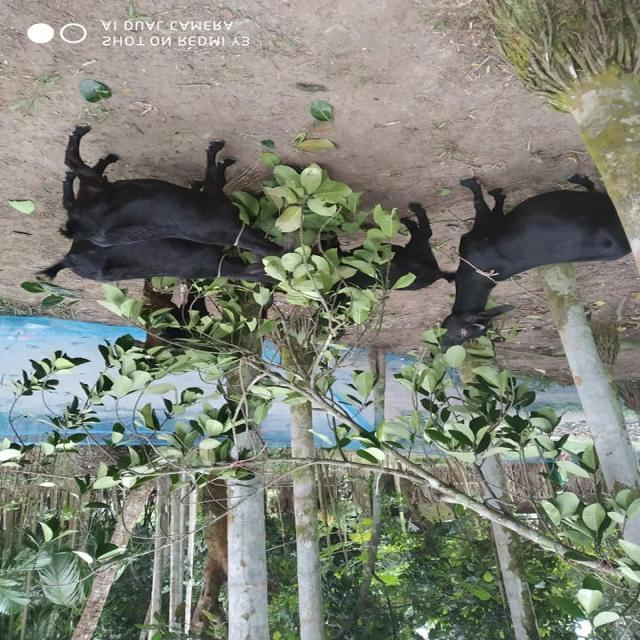Goat: (436, 174, 632, 356), (57, 125, 305, 263), (308, 203, 456, 345), (34, 236, 285, 288), (136, 278, 269, 360)
